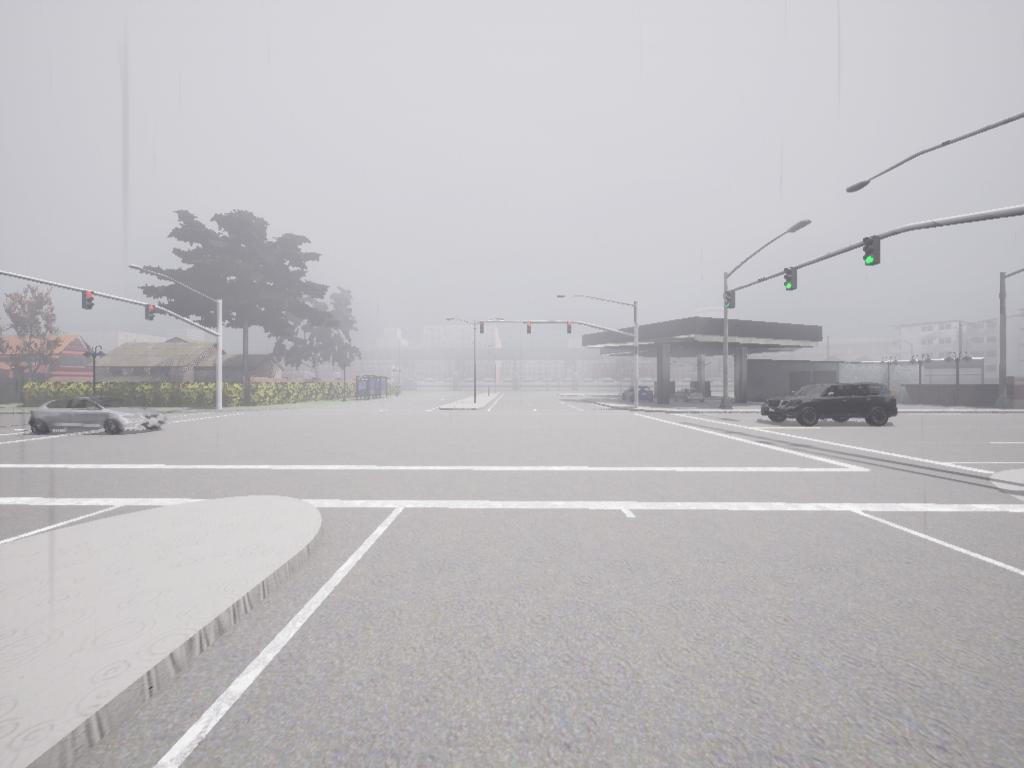traffic_light: (864, 237, 882, 266), (783, 270, 798, 292), (726, 291, 737, 311), (86, 291, 97, 310), (148, 307, 158, 323), (566, 323, 575, 337), (480, 322, 487, 338), (527, 323, 534, 335)
